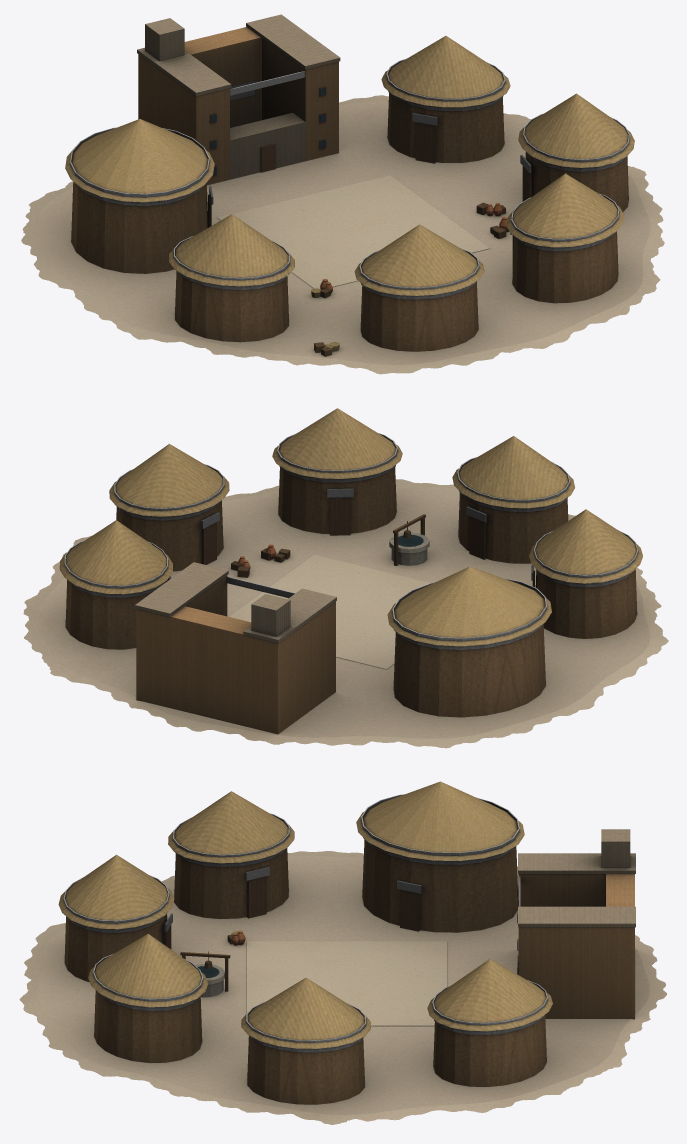
The model's file is bronze-town-small-a-maghreb.glb.
3 views of the same model, one above another, from view 1: azimuth 30°, elevation 25°; view 2: azimuth 150°, elevation 25°; view 3: azimuth 270°, elevation 25° (orthographic).
Parts seen in each view (by area): view 1: LOD0; view 2: LOD0; view 3: LOD0.
Boxes of the visible parts, bbox=[...] form: LOD0: bbox=[21, 14, 664, 374]; LOD0: bbox=[23, 408, 668, 748]; LOD0: bbox=[19, 781, 666, 1124].
Size of what is drawn, in the model's own units: 3.96 by 0.8372 by 3.95.
3 materials, 3 textured.
